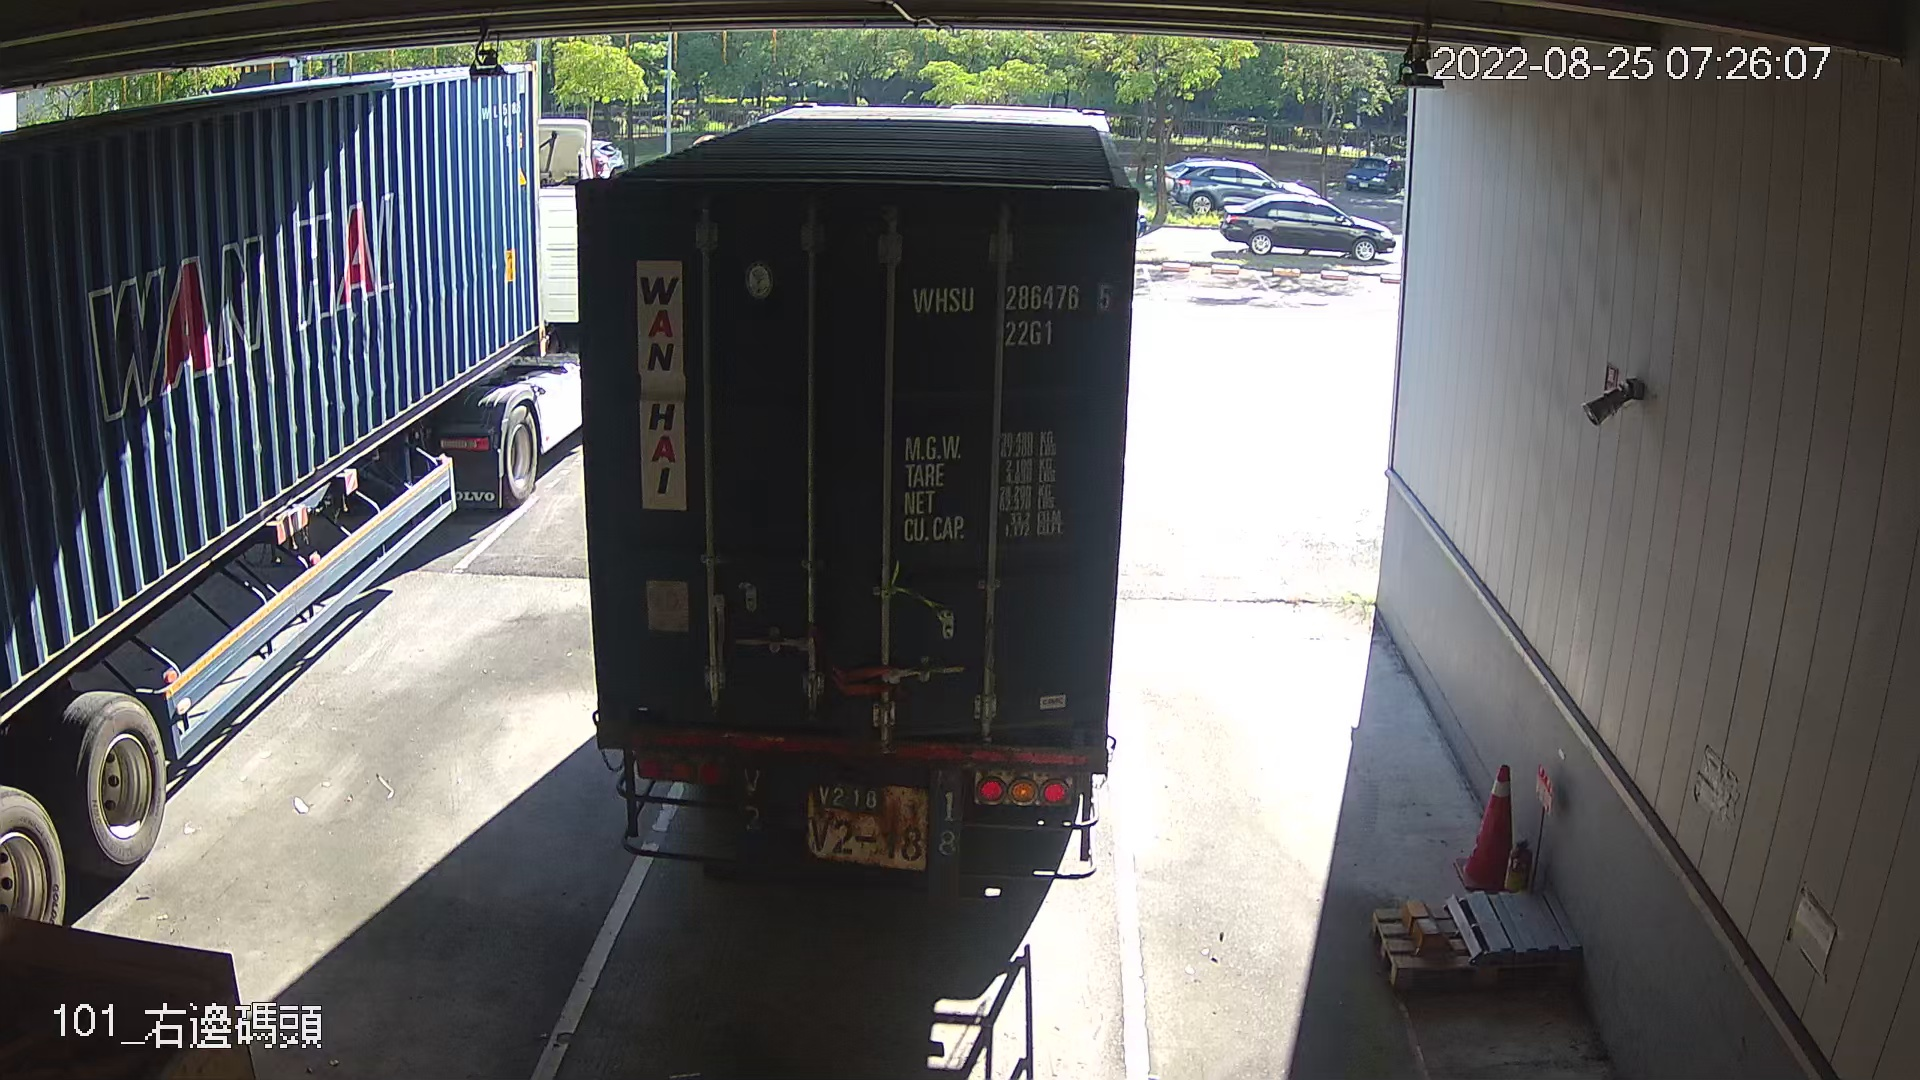container: (899, 266, 1122, 351)
